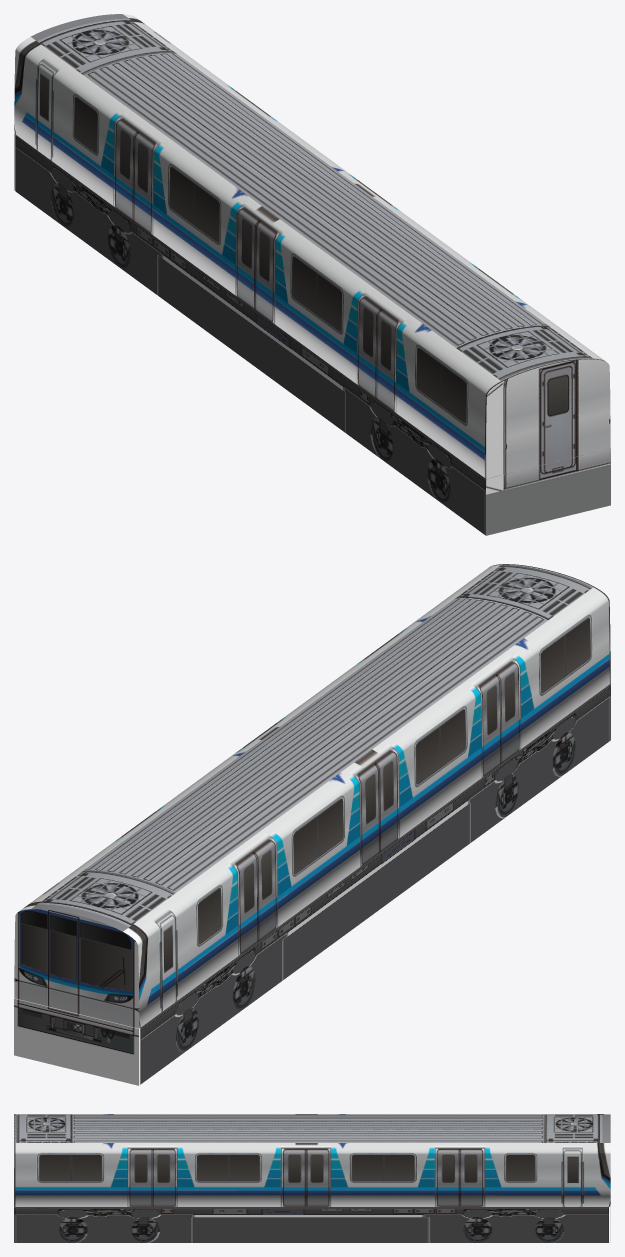
Rendered from car2.glb.
3 renders of one model, top to bottom at view 1: azimuth 30°, elevation 25°; view 2: azimuth 150°, elevation 25°; view 3: azimuth 270°, elevation 25°, orthographic. The views are drawn at different scales.
Parts seen in each view (by area): view 1: yokohamasub-3000v-car2; view 2: yokohamasub-3000v-car2; view 3: yokohamasub-3000v-car2.
Part boxes in pixels (left/top/right/bottom): yokohamasub-3000v-car2: left=14, top=14, right=610, bottom=535; yokohamasub-3000v-car2: left=14, top=564, right=610, bottom=1085; yokohamasub-3000v-car2: left=14, top=1114, right=610, bottom=1242.
Bounding box in the file's own units: 2.76 × 3.28 × 18.07.
Materials: 9 (8 with a texture image).
